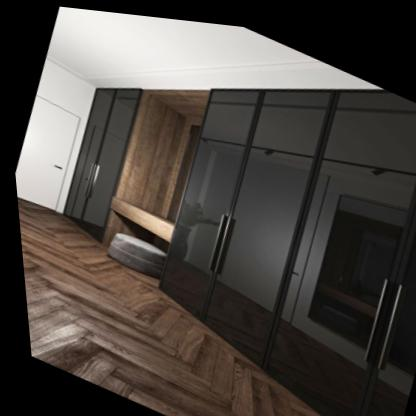Transparent Closet: (60, 81, 416, 416)
Wooden floor: (14, 198, 323, 416)
